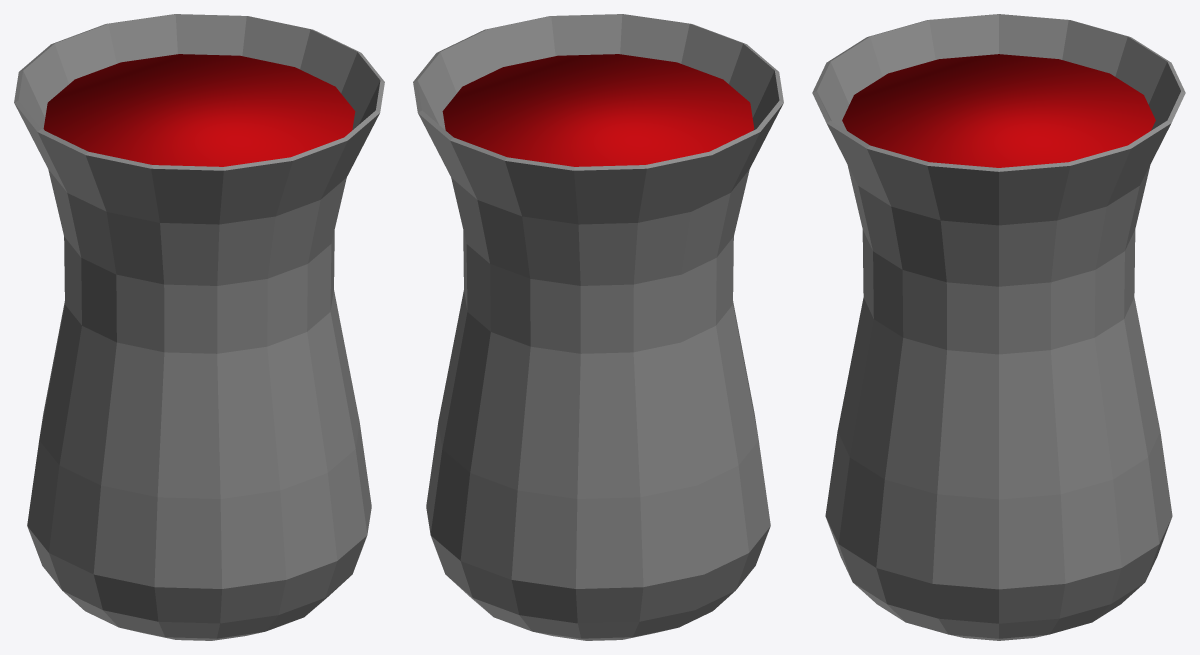
File: TeaGlass(tea_dark).fbx
3 renders of one model, left to right at view 1: azimuth 30°, elevation 25°; view 2: azimuth 150°, elevation 25°; view 3: azimuth 270°, elevation 25°, orthographic.
Visible parts, largest first — view 1: TeaGlass, DarkTeaFull; view 2: TeaGlass, DarkTeaFull; view 3: TeaGlass, DarkTeaFull.
Part boxes in pixels (left/top/right/bottom): TeaGlass: left=14, top=14, right=384, bottom=640; DarkTeaFull: left=43, top=54, right=355, bottom=166; TeaGlass: left=413, top=14, right=783, bottom=640; DarkTeaFull: left=442, top=54, right=754, bottom=166; TeaGlass: left=812, top=14, right=1185, bottom=640; DarkTeaFull: left=842, top=54, right=1155, bottom=167.
Bounding box in the file's own units: 37.07 × 55.99 × 37.07.
